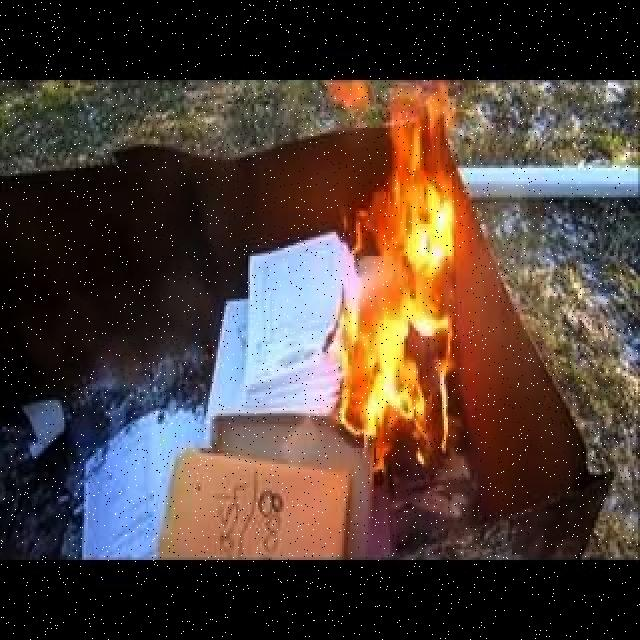fire: (362, 154, 463, 461)
